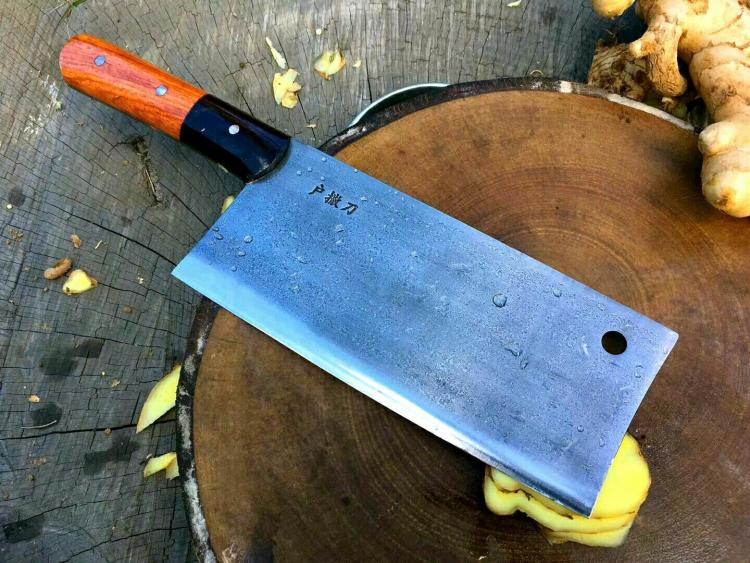knief: (54, 42, 676, 487)
